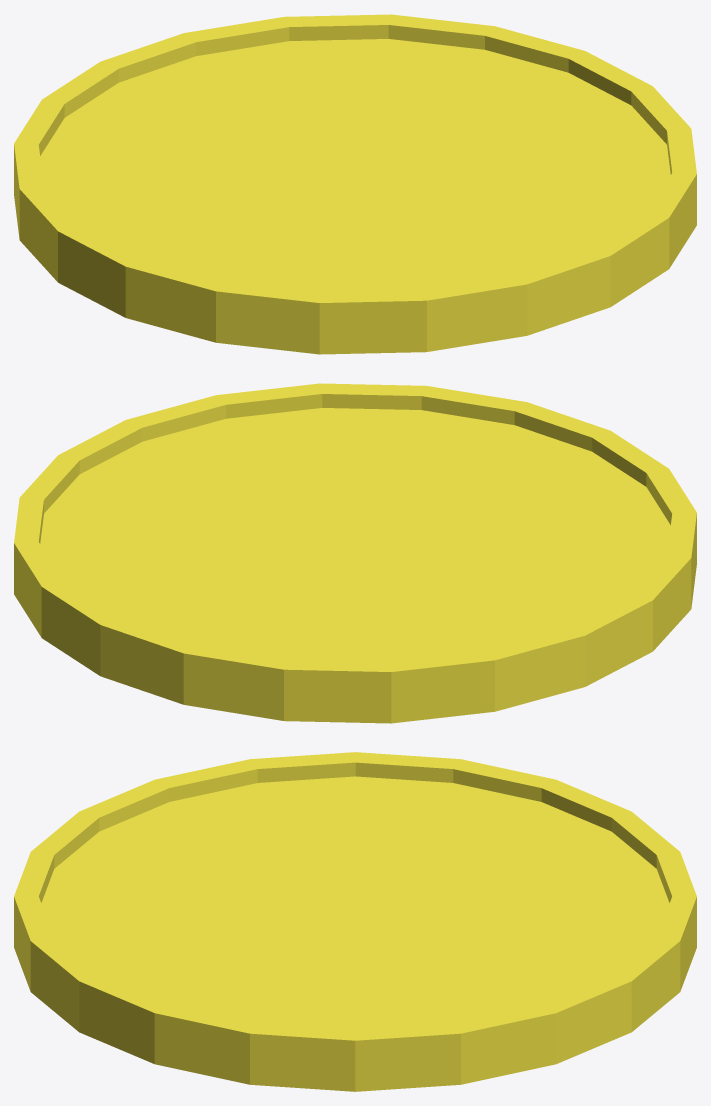
File: Gold.glb
3 renders of one model, top to bottom at view 1: azimuth 30°, elevation 25°; view 2: azimuth 150°, elevation 25°; view 3: azimuth 270°, elevation 25°, orthographic.
Parts seen in each view (by area): view 1: Cylinder; view 2: Cylinder; view 3: Cylinder.
Part boxes in pixels (bbox=[...]): Cylinder: bbox=[14, 14, 696, 354]; Cylinder: bbox=[14, 383, 696, 723]; Cylinder: bbox=[14, 752, 696, 1091].
Size of the model in its own units: 2 by 0.1652 by 2.
